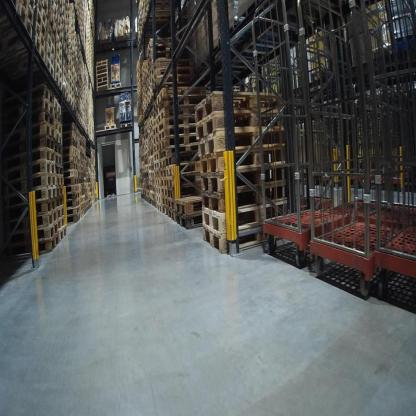pallet: (199, 220, 315, 256), (200, 160, 291, 200), (197, 123, 296, 159), (198, 181, 294, 216), (194, 110, 291, 141), (201, 200, 293, 232), (189, 90, 285, 120), (195, 147, 289, 175), (3, 222, 61, 247), (1, 4, 34, 43), (9, 233, 60, 256), (5, 210, 58, 232), (11, 84, 55, 108), (5, 158, 57, 178), (159, 121, 204, 143), (6, 97, 55, 117), (3, 198, 57, 216), (4, 145, 56, 163), (6, 171, 58, 189), (155, 87, 206, 105), (8, 182, 56, 201), (4, 133, 56, 150), (152, 75, 194, 96), (149, 57, 195, 76), (158, 105, 204, 124), (13, 34, 45, 61), (157, 115, 207, 132), (167, 169, 211, 188), (156, 98, 206, 114), (165, 148, 205, 168), (154, 135, 205, 150), (177, 192, 208, 216), (150, 66, 193, 83), (157, 144, 205, 159), (14, 120, 56, 137), (165, 161, 212, 176), (12, 112, 54, 128), (166, 187, 212, 201), (177, 213, 209, 233), (147, 36, 172, 54), (18, 1, 36, 26), (35, 8, 47, 41), (147, 46, 173, 60), (46, 23, 59, 49), (44, 57, 57, 80), (49, 104, 63, 125), (37, 0, 47, 28), (52, 97, 64, 119), (49, 2, 59, 28), (37, 25, 46, 52), (167, 197, 183, 212), (49, 9, 58, 35), (118, 120, 137, 132), (60, 131, 77, 144), (56, 122, 76, 133), (54, 124, 64, 144), (55, 153, 65, 172), (46, 46, 54, 69), (54, 204, 66, 219), (62, 199, 80, 209), (37, 1, 49, 16), (20, 0, 37, 10), (53, 195, 65, 209), (47, 35, 54, 59), (99, 123, 117, 132), (55, 70, 63, 90), (56, 32, 64, 52), (55, 225, 67, 238), (54, 120, 64, 135), (57, 25, 64, 46), (64, 190, 80, 199), (62, 206, 80, 214), (65, 214, 81, 223), (53, 187, 66, 198), (62, 73, 69, 93), (58, 14, 64, 37), (56, 216, 65, 231), (63, 168, 78, 177), (64, 146, 77, 156), (50, 1, 60, 14), (57, 164, 66, 178), (58, 5, 64, 26), (63, 54, 68, 79), (55, 142, 65, 154), (62, 141, 77, 149), (62, 65, 68, 85), (55, 61, 62, 78), (64, 155, 77, 164), (66, 184, 79, 193), (95, 57, 108, 66), (64, 162, 78, 170), (63, 177, 79, 184), (62, 85, 69, 101), (169, 210, 178, 222), (56, 52, 62, 70), (56, 45, 62, 63), (64, 2, 70, 20), (95, 76, 110, 83), (109, 81, 122, 89), (96, 85, 109, 93), (55, 178, 66, 187), (160, 194, 168, 206), (95, 63, 108, 70), (96, 68, 109, 75), (96, 72, 109, 79), (159, 188, 168, 198), (64, 17, 69, 35), (162, 205, 169, 217), (152, 108, 159, 120), (159, 157, 165, 170), (96, 80, 109, 86), (59, 1, 65, 14), (64, 39, 70, 52), (153, 158, 159, 170), (160, 178, 167, 188), (152, 125, 159, 135), (152, 135, 159, 145), (149, 92, 154, 106), (152, 98, 158, 109), (152, 116, 158, 127), (154, 193, 160, 204), (148, 83, 153, 96), (152, 145, 159, 154), (154, 177, 161, 186), (65, 12, 69, 27), (64, 45, 69, 57), (64, 49, 68, 63), (160, 169, 166, 178), (156, 204, 162, 213), (65, 1, 70, 11), (154, 186, 161, 193), (153, 153, 159, 161), (64, 29, 68, 41), (148, 71, 151, 83), (154, 170, 159, 177), (148, 80, 152, 87)
